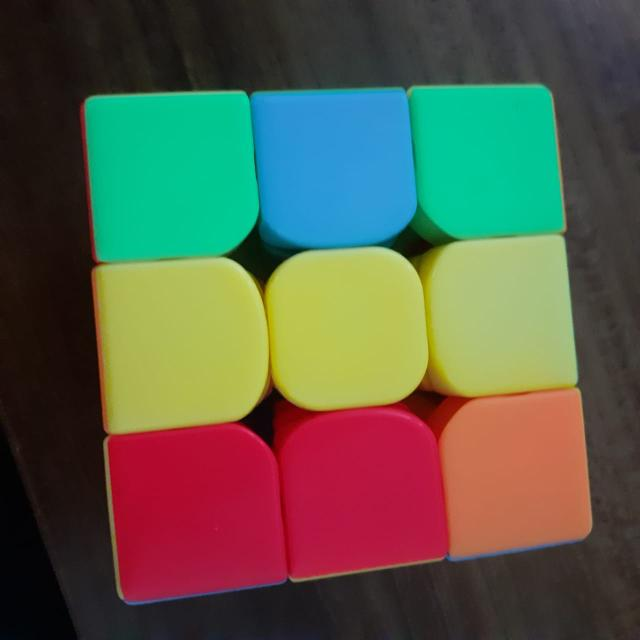Blue: (253, 95, 409, 239)
Green: (88, 96, 252, 250), (410, 84, 562, 236)
Orange: (448, 405, 588, 547)
Red: (108, 440, 278, 598), (292, 420, 433, 566)
Yellow: (91, 263, 266, 423), (272, 258, 428, 402), (436, 246, 576, 390)
